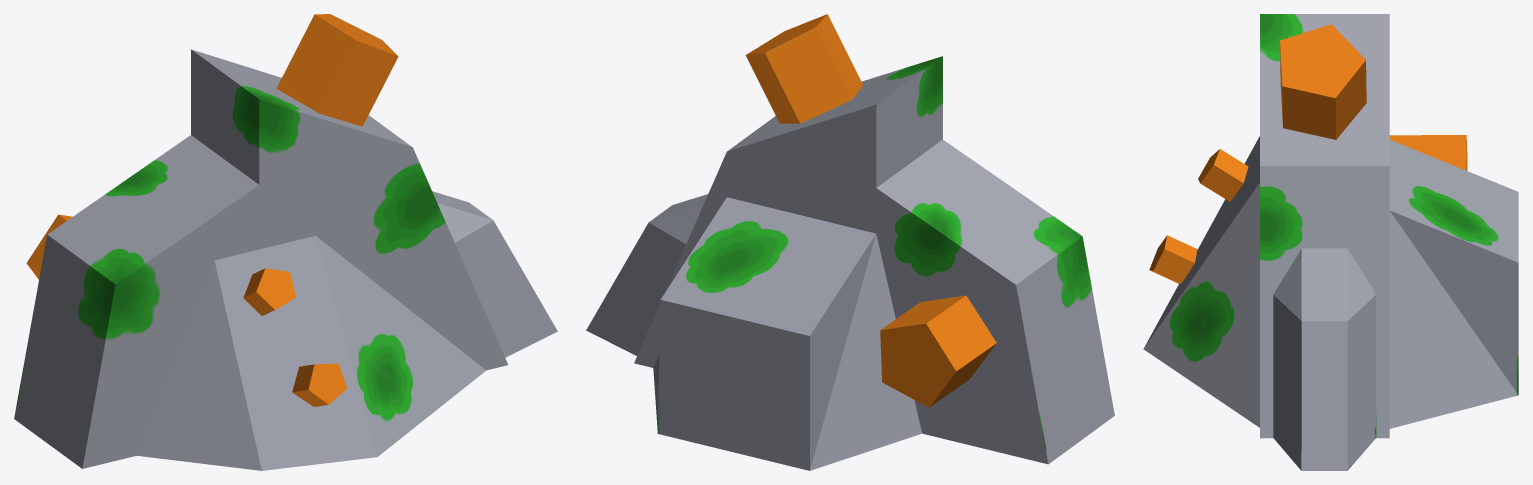
The model's file is BronceMusgoTipo2.fbx.
The picture shows the model from 3 angles, left to right: view 1: azimuth 30°, elevation 25°; view 2: azimuth 150°, elevation 25°; view 3: azimuth 270°, elevation 25°; orthographic projection. The views are drawn at different scales.
Visible parts, largest first — view 1: base.030, cobre.013, cobre.010, cobre.011, cobre.012; view 2: base.030, cobre.012, cobre.013; view 3: base.030, cobre.013, cobre.011, cobre.012, cobre.010.
Boxes of the visible parts, bbox=[...] form: base.030: bbox=[14, 49, 557, 470]; cobre.013: bbox=[276, 14, 398, 126]; cobre.010: bbox=[292, 363, 347, 406]; cobre.011: bbox=[243, 268, 295, 315]; cobre.012: bbox=[26, 214, 72, 279]; base.030: bbox=[586, 56, 1114, 470]; cobre.012: bbox=[880, 295, 996, 407]; cobre.013: bbox=[745, 14, 863, 123]; base.030: bbox=[1143, 14, 1518, 470]; cobre.013: bbox=[1280, 24, 1366, 139]; cobre.011: bbox=[1198, 149, 1248, 201]; cobre.012: bbox=[1389, 135, 1467, 170]; cobre.010: bbox=[1149, 235, 1197, 283].
Bounding box in the file's own units: 140 × 97.2 × 96.69.
